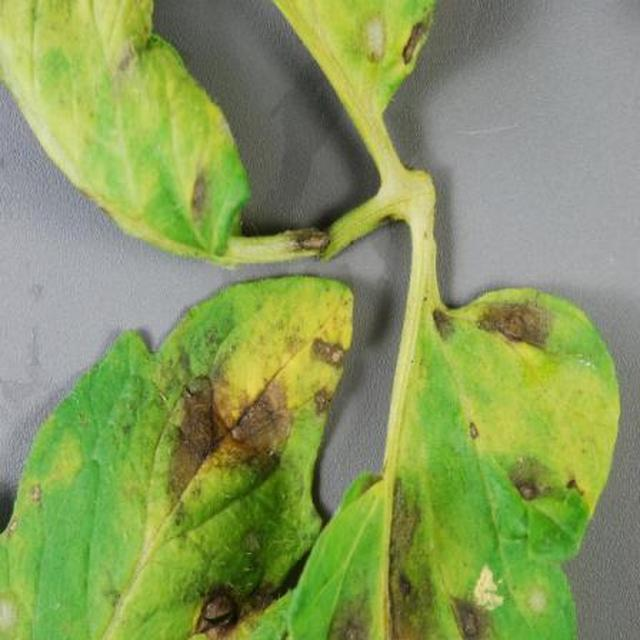Early Blight Leaf: (0, 376, 508, 640)
